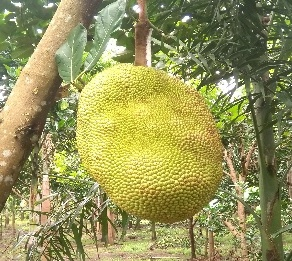Mit: (76, 62, 224, 223)
